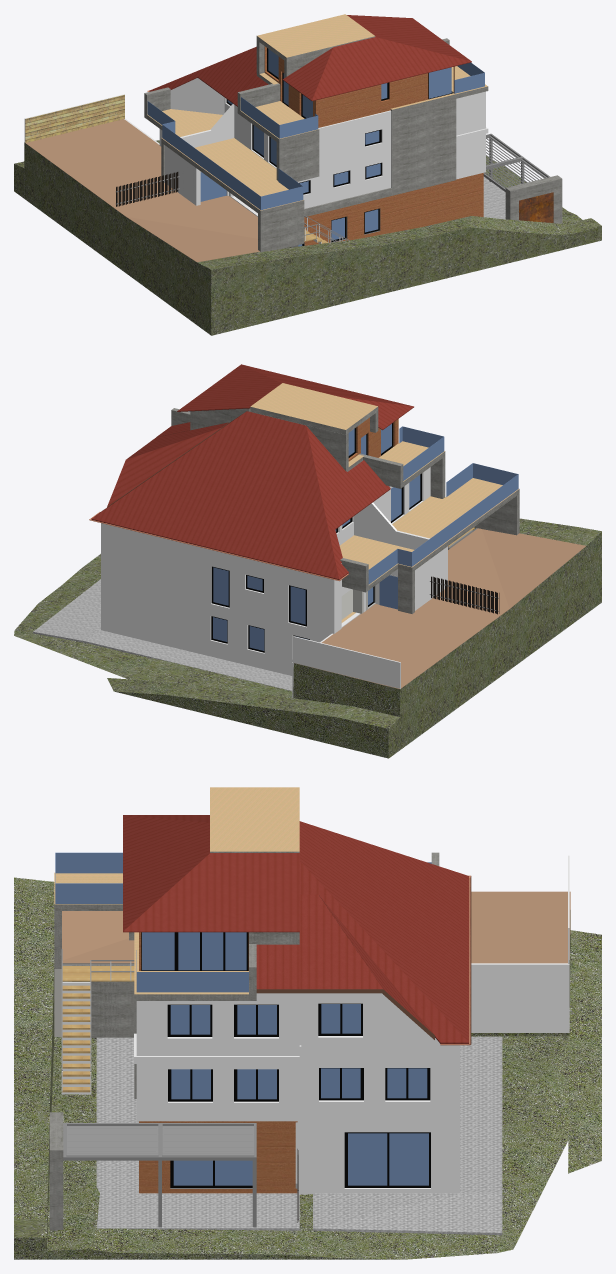
File: stodul3.glb
The picture shows the model from 3 angles, top to bottom: view 1: azimuth 30°, elevation 25°; view 2: azimuth 150°, elevation 25°; view 3: azimuth 270°, elevation 25°; orthographic projection. The views are drawn at different scales.
Visible parts, largest first — view 1: Toposolid Toposolid <20279369 Terénní útvar 1<, Toposolid Toposolid <20576967 Sub-Division<, Toposolid Toposolid <20266496 Terénní útvar 1<, FootPrintRoof Roofs <20652048 25-Střecha 4<, Wall Walls <20628589 0 Stěna 475původní +prkna<, Wall Walls <20652122 Stěna beton 90<, Floor Floors <20651993 25-balkon<, Floor Floors <20651930 25-balkon<, Wall Walls <20311745 Stěna 75-plot<, Wall Walls <20646912 0 Stěna 475 - přitepli2 2<, FootPrintRoof Roofs <20655058 25-Střecha 4<, Railing Railings <20652002 Zábradlí_jen sklo< (+30 smaller); view 2: FootPrintRoof Roofs <20655058 25-Střecha 4<, Toposolid Toposolid <20266496 Terénní útvar 1<, Toposolid Toposolid <20576967 Sub-Division<, Toposolid Toposolid <20279369 Terénní útvar 1<, Wall Walls <20266477 0 Stěna 475původní<, Wall Walls <20655177 0 Stěna 475původní<, Floor Floors <20600366 dlažba-terasa v zahradě<, Floor Floors <20651993 25-balkon<, FootPrintRoof Roofs <20652048 25-Střecha 4<, Floor Floors <20651930 25-balkon<, Wall Walls <20311745 Stěna 75-plot<, RoofBase Roofs <20655270 Střecha 4< (+22 smaller); view 3: Toposolid Toposolid <20266496 Terénní útvar 1<, Toposolid Toposolid <20279369 Terénní útvar 1<, FootPrintRoof Roofs <20655058 25-Střecha 4<, FootPrintRoof Roofs <20652048 25-Střecha 4<, Floor Floors <20600366 dlažba-terasa v zahradě<, Floor Floors <20576661 dlažba-terasa v zahradě<, Toposolid Toposolid <20576967 Sub-Division<, FamilyInstance Generic Models Generic Models 3 <20629220 Gen, Wall Walls <20387074 0 Stěna 475původní<, Wall Walls <20646853 0 Stěna 475 - přitepli2 2<, RoofBase Roofs <20655270 Střecha 4<, Wall Walls <20646842 0 Stěna 475 - přitepli2 2< (+28 smaller).
Part boxes in pixels (<box>): Toposolid Toposolid <20279369 Terénní útvar 1<: <box>14,140,601,335</box>; Toposolid Toposolid <20576967 Sub-Division<: <box>25,119,259,262</box>; Toposolid Toposolid <20266496 Terénní útvar 1<: <box>24,142,582,324</box>; FootPrintRoof Roofs <20652048 25-Střecha 4<: <box>282,15,471,101</box>; Wall Walls <20628589 0 Stěna 475původní +prkna<: <box>304,174,476,245</box>; Wall Walls <20652122 Stěna beton 90<: <box>391,99,456,195</box>; Floor Floors <20651993 25-balkon<: <box>147,109,304,215</box>; Floor Floors <20651930 25-balkon<: <box>256,14,375,61</box>; Wall Walls <20311745 Stěna 75-plot<: <box>24,94,124,142</box>; Wall Walls <20646912 0 Stěna 475 - přitepli2 2<: <box>326,110,391,167</box>; FootPrintRoof Roofs <20655058 25-Střecha 4<: <box>149,46,256,102</box>; Railing Railings <20652002 Zábradlí_jen sklo<: <box>179,137,303,210</box>; FootPrintRoof Roofs <20655058 25-Střecha 4<: <box>91,411,372,579</box>; Toposolid Toposolid <20266496 Terénní útvar 1<: <box>14,546,586,749</box>; Toposolid Toposolid <20576967 Sub-Division<: <box>294,528,585,689</box>; Toposolid Toposolid <20279369 Terénní útvar 1<: <box>107,518,601,758</box>; Wall Walls <20266477 0 Stěna 475původní<: <box>101,577,331,675</box>; Wall Walls <20655177 0 Stěna 475původní<: <box>108,532,338,633</box>; Floor Floors <20600366 dlažba-terasa v zahradě<: <box>33,579,292,691</box>; Floor Floors <20651993 25-balkon<: <box>339,478,519,589</box>; FootPrintRoof Roofs <20652048 25-Střecha 4<: <box>177,364,413,430</box>; Floor Floors <20651930 25-balkon<: <box>250,383,378,434</box>; Wall Walls <20311745 Stěna 75-plot<: <box>293,636,400,688</box>; RoofBase Roofs <20655270 Střecha 4<: <box>107,422,228,507</box>; Toposolid Toposolid <20266496 Terénní útvar 1<: <box>46,910,570,1259</box>; Toposolid Toposolid <20279369 Terénní útvar 1<: <box>14,877,601,1259</box>; FootPrintRoof Roofs <20655058 25-Střecha 4<: <box>299,821,468,1043</box>; FootPrintRoof Roofs <20652048 25-Střecha 4<: <box>123,815,299,932</box>; Floor Floors <20600366 dlažba-terasa v zahradě<: <box>313,1036,502,1235</box>; Floor Floors <20576661 dlažba-terasa v zahradě<: <box>96,1037,299,1230</box>; Toposolid Toposolid <20576967 Sub-Division<: <box>62,891,570,963</box>; FamilyInstance Generic Models Generic Models 3 <20629220 Gen: <box>63,1123,256,1160</box>; Wall Walls <20387074 0 Stěna 475původní<: <box>471,963,569,1032</box>; Wall Walls <20646853 0 Stěna 475 - přitepli2 2<: <box>136,1045,301,1121</box>; RoofBase Roofs <20655270 Střecha 4<: <box>299,894,434,1039</box>; Wall Walls <20646842 0 Stěna 475 - přitepli2 2<: <box>136,993,301,1055</box>.
Bounding box in the file's own units: 26.9 × 12.87 × 23.55.
30 materials, 10 textured.
